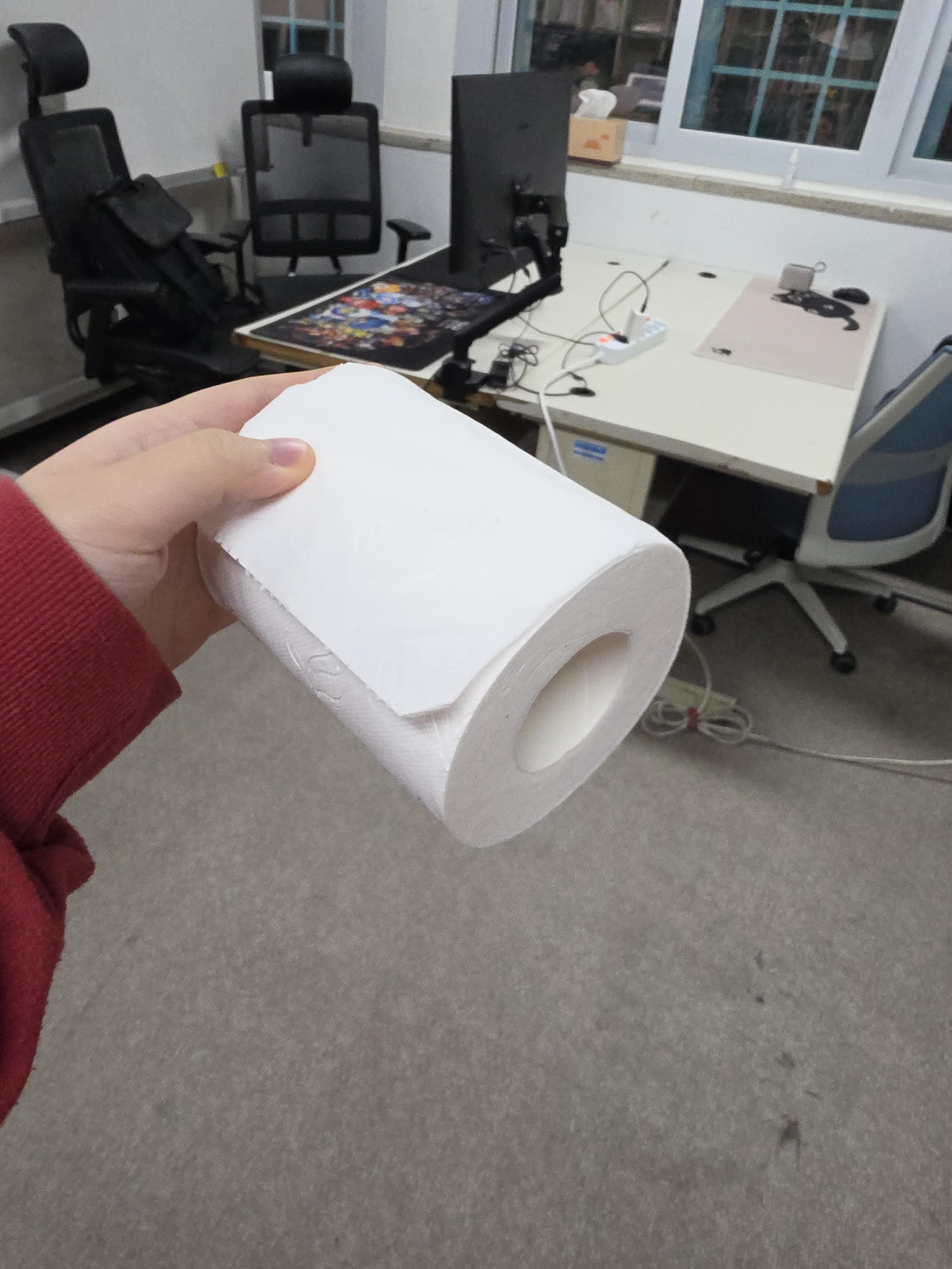tissue: (198, 363, 693, 850), (567, 88, 627, 164)
